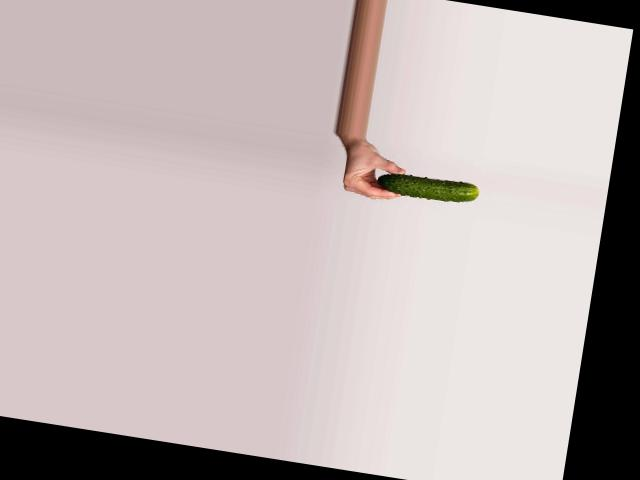cucumber: (375, 170, 479, 206)
